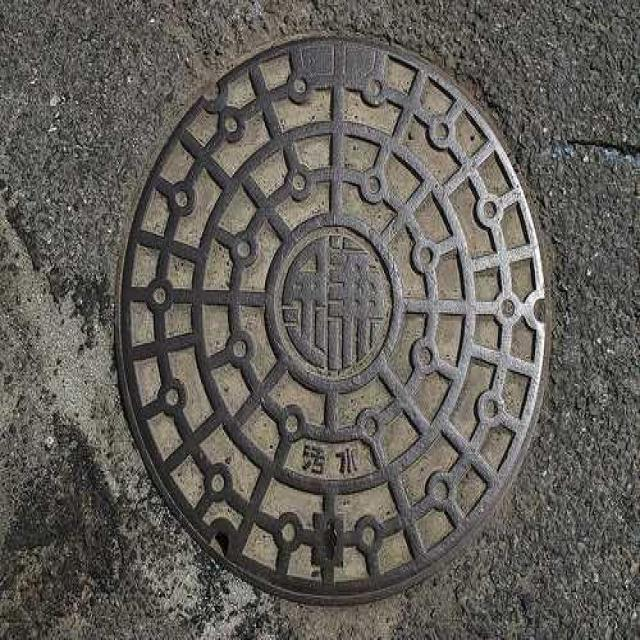manhole: (120, 40, 550, 602)
